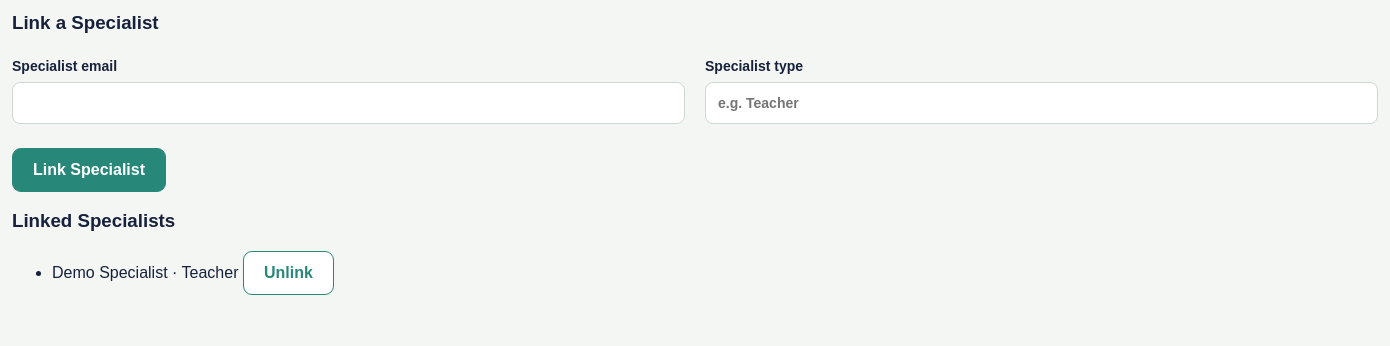
Test: shows the API error and keeps the specialist in the list
Click the button with aria-label "Unlink Demo Specialist".
click(288, 273)  # box [243,251,334,295]
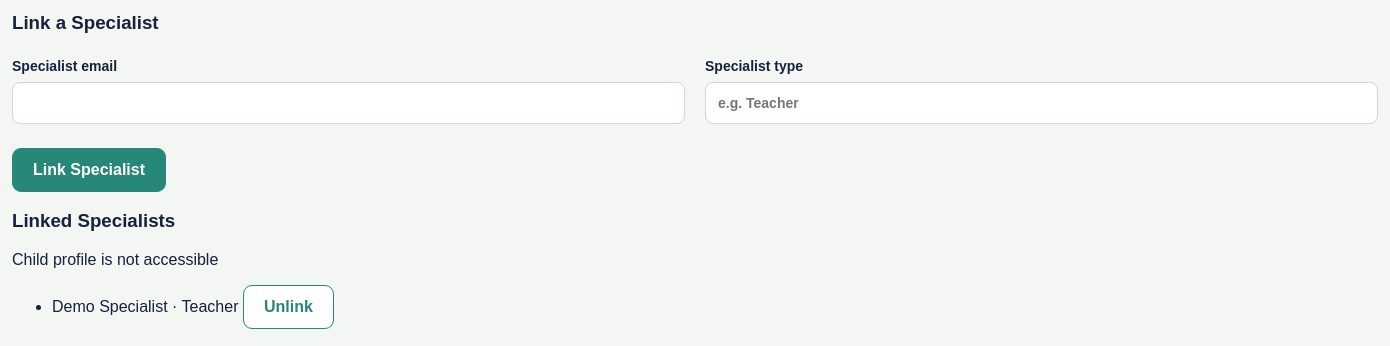
Expected: the button with aria-label "Unlink Demo Specialist" is enabled, [243,285,334,329]
Expected: the message reads "Child profile is not accessible", [12,251,218,268]
